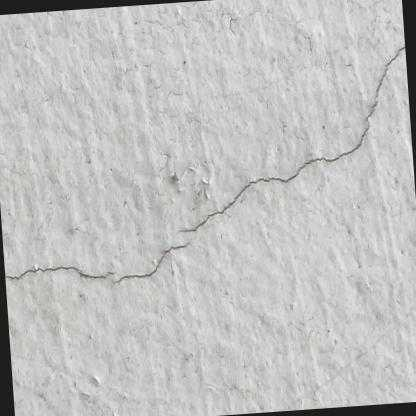crack: (178, 44, 405, 231), (110, 243, 187, 282), (4, 266, 115, 279)
